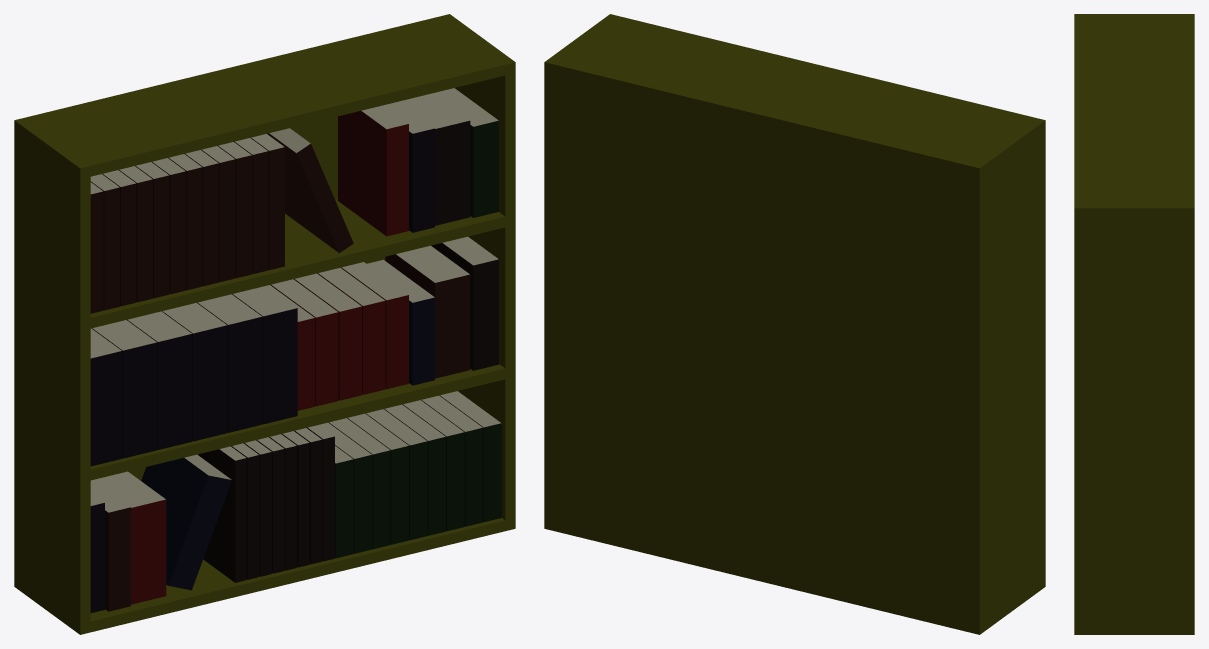
Rendered from biblioteca 1.FBX.
3 views of the same model, side by side, from view 1: azimuth 30°, elevation 25°; view 2: azimuth 150°, elevation 25°; view 3: azimuth 270°, elevation 25° (orthographic). The views are drawn at different scales.
Visible parts, largest first — view 1: Box005, Box004, Box006, Box003, Box007, Box053, Box001, Box002, Box060, Box049, Box021, Box022 (+47 smaller); view 2: Box007, Box005, Box004; view 3: Box006, Box004, Box007, Box005.
Part boxes in pixels (x1,y1,x2,y2): Box005: (20, 122, 90, 634); Box004: (31, 21, 505, 176); Box006: (446, 18, 515, 530); Box003: (90, 199, 505, 328); Box007: (14, 14, 455, 590); Box053: (338, 105, 408, 236); Box001: (90, 518, 505, 632); Box002: (90, 364, 505, 480); Box060: (141, 454, 231, 590); Box049: (385, 245, 470, 378); Box021: (92, 320, 157, 458); Box022: (127, 311, 192, 449); Box007: (544, 58, 985, 634); Box005: (975, 117, 1045, 630); Box004: (561, 16, 1034, 161); Box006: (1074, 203, 1183, 634); Box004: (1074, 18, 1183, 203); Box007: (1183, 14, 1194, 634); Box005: (1074, 14, 1183, 18).
Size of the model in its own units: 210 by 215 by 55.
